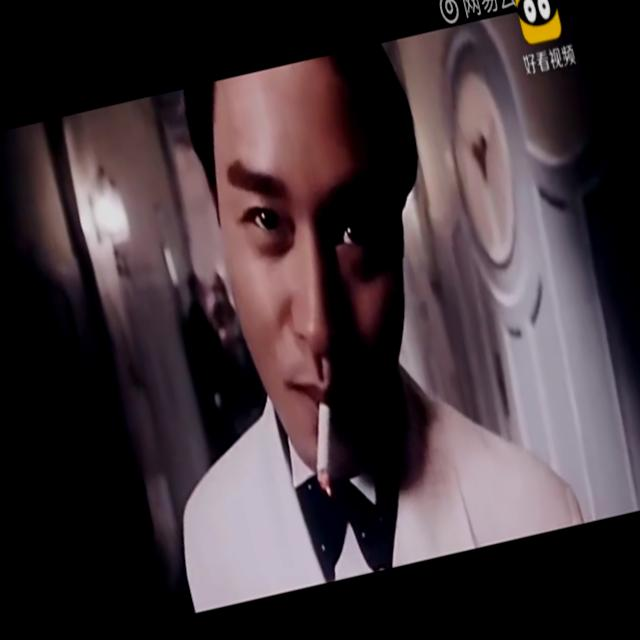smoke: (298, 402, 354, 494)
